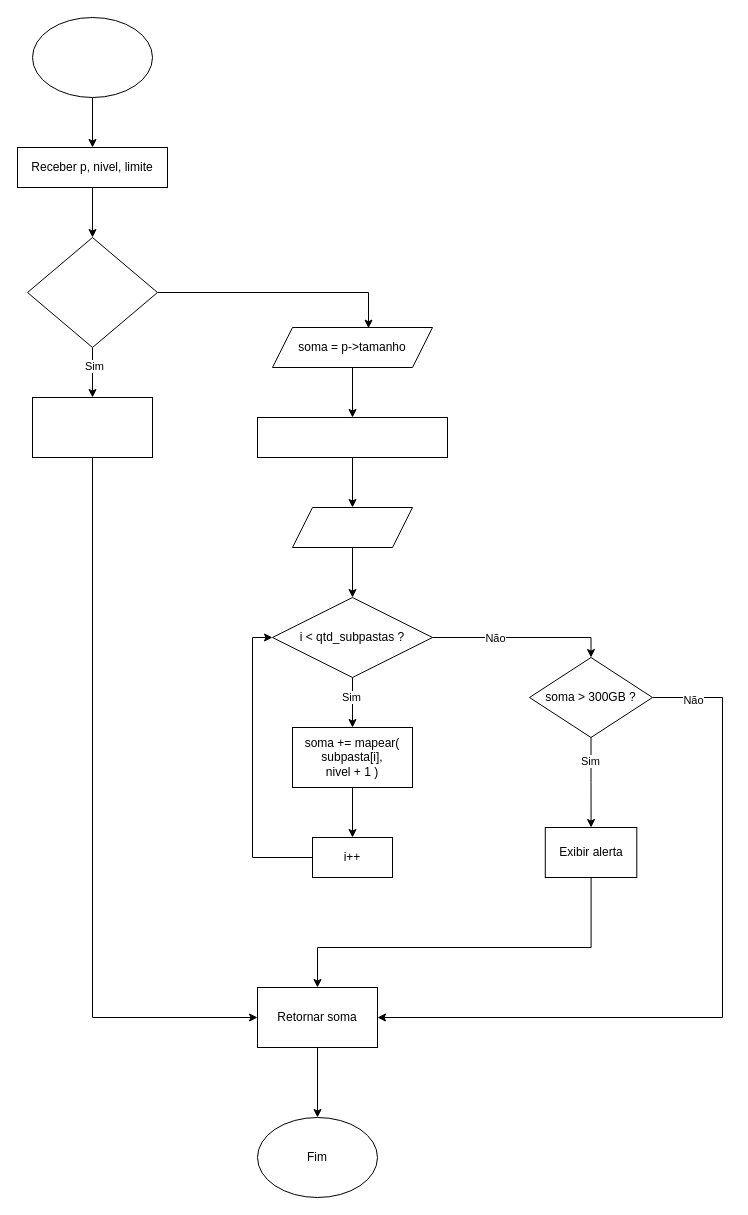
Some shapes in this 748 by 1215 pixel diagram are drawn without their labels. The box of each missing label's shape, as (x1, y1, x2, y2) in pixels:
Exibir nome + tamanho + nível: (256, 416, 448, 458)
i = 0: (292, 506, 412, 548)
Início: (32, 16, 152, 98)
p == NULL OU nivel > limite ?: (26, 236, 158, 348)
Retornar 0: (32, 396, 152, 458)
